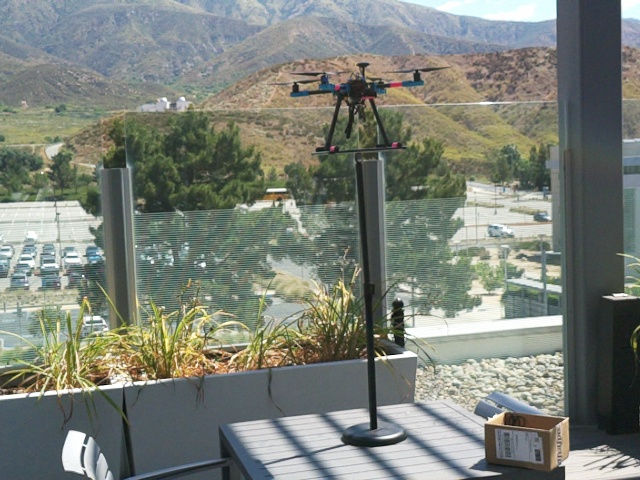quadcopter: (268, 63, 452, 151)
